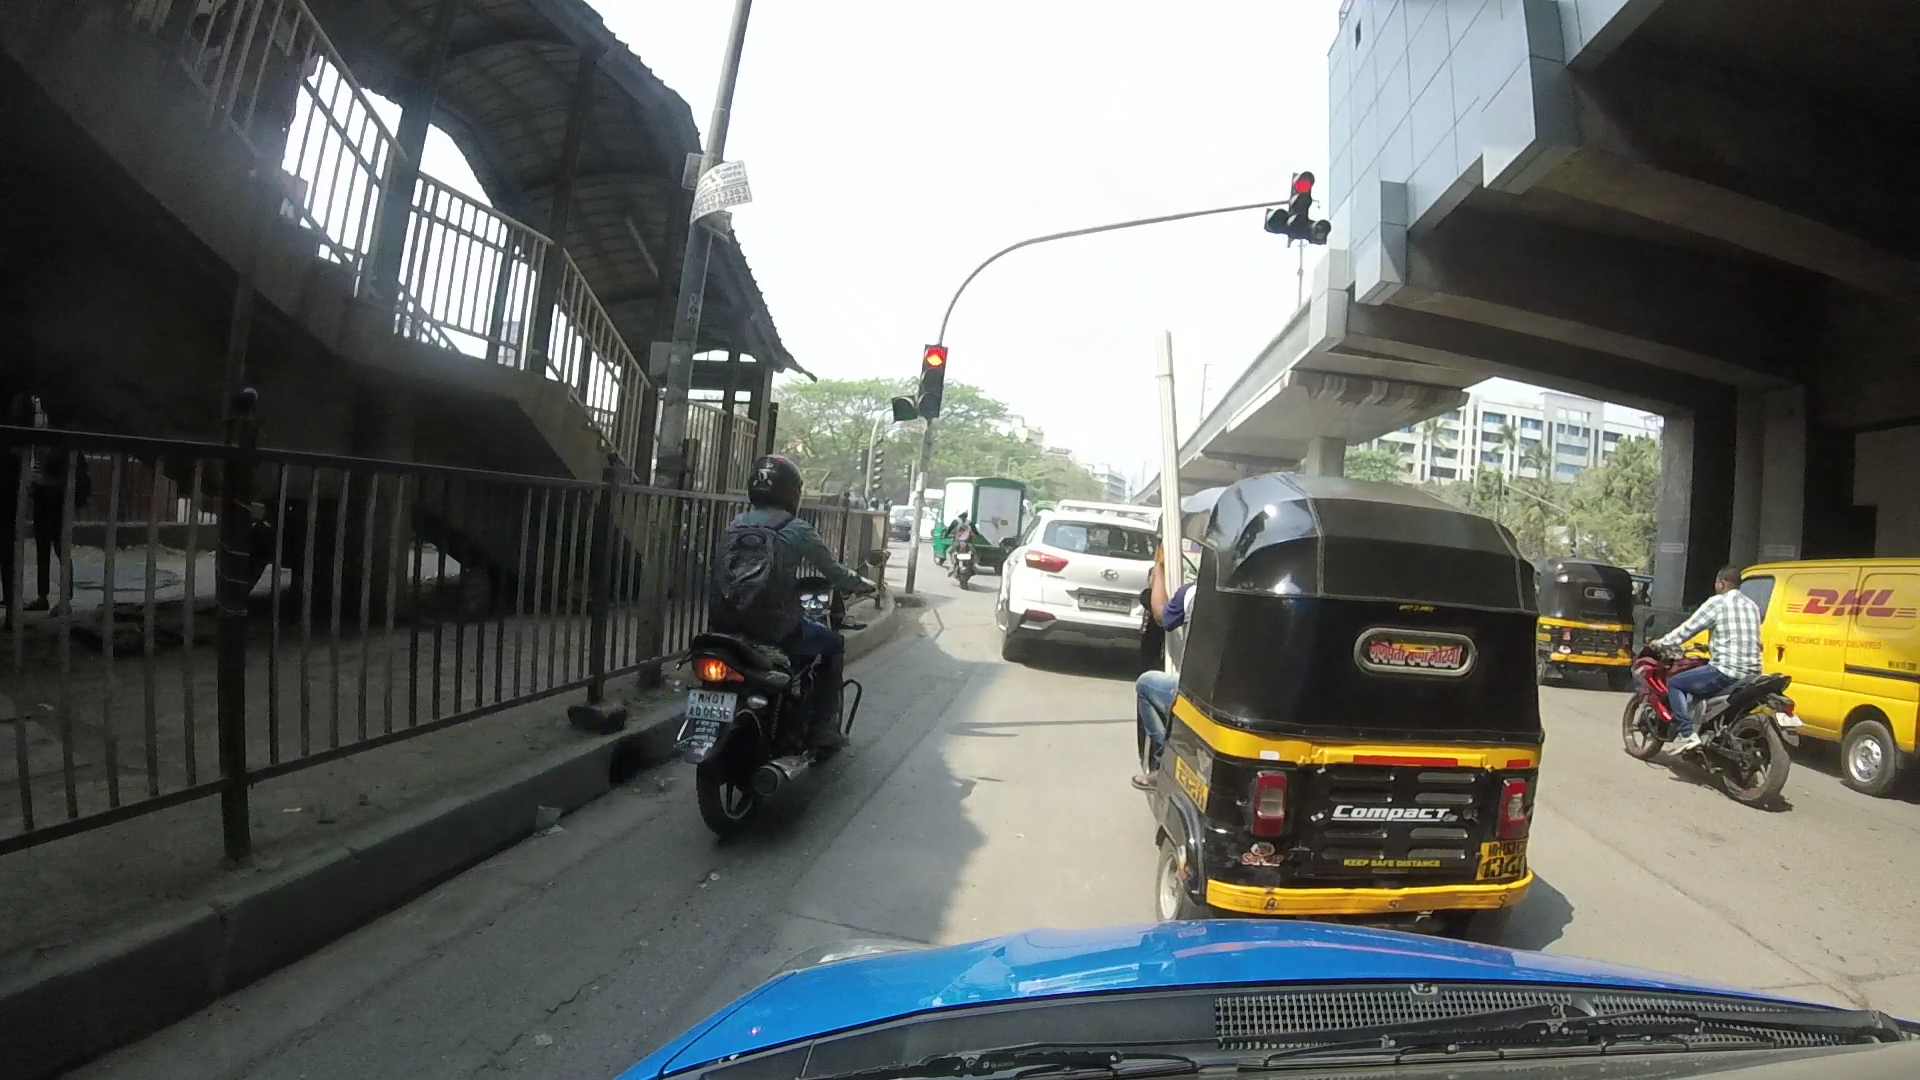bike/scooter: (661, 436, 847, 843), (1619, 568, 1799, 816)
car: (1687, 533, 1920, 794), (990, 501, 1189, 666)
rickshaw: (1160, 472, 1540, 927), (1540, 560, 1643, 683)
